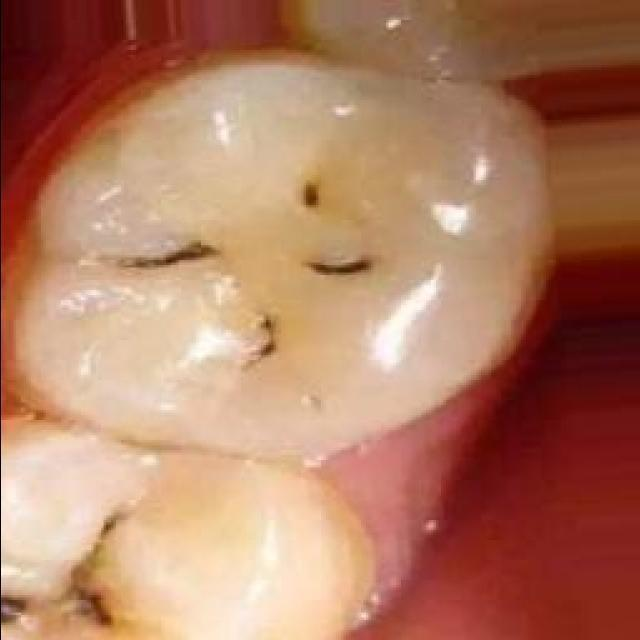decay: (278, 502, 352, 521)
